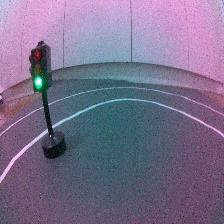green: (27, 41, 68, 161)
